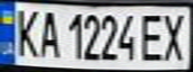1: (60, 9, 84, 60)
2: (78, 10, 103, 61), (100, 10, 121, 62)
4: (118, 10, 142, 62)
A: (36, 7, 63, 58)
E: (136, 10, 169, 62)
K: (9, 4, 42, 58)
X: (157, 10, 193, 62)
